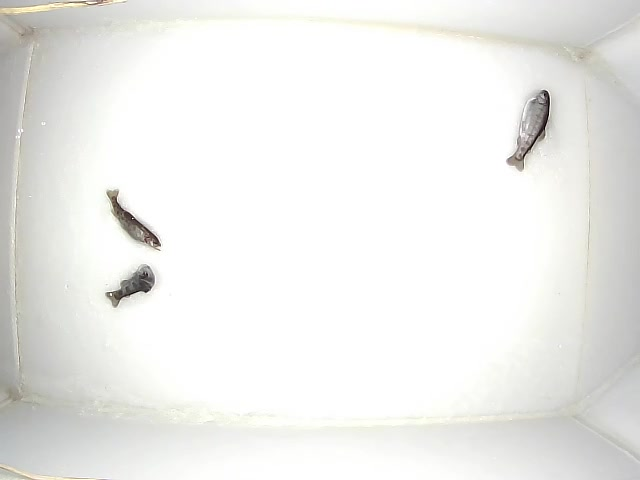fish: (506, 89, 550, 172), (105, 189, 161, 252), (105, 264, 155, 308)
